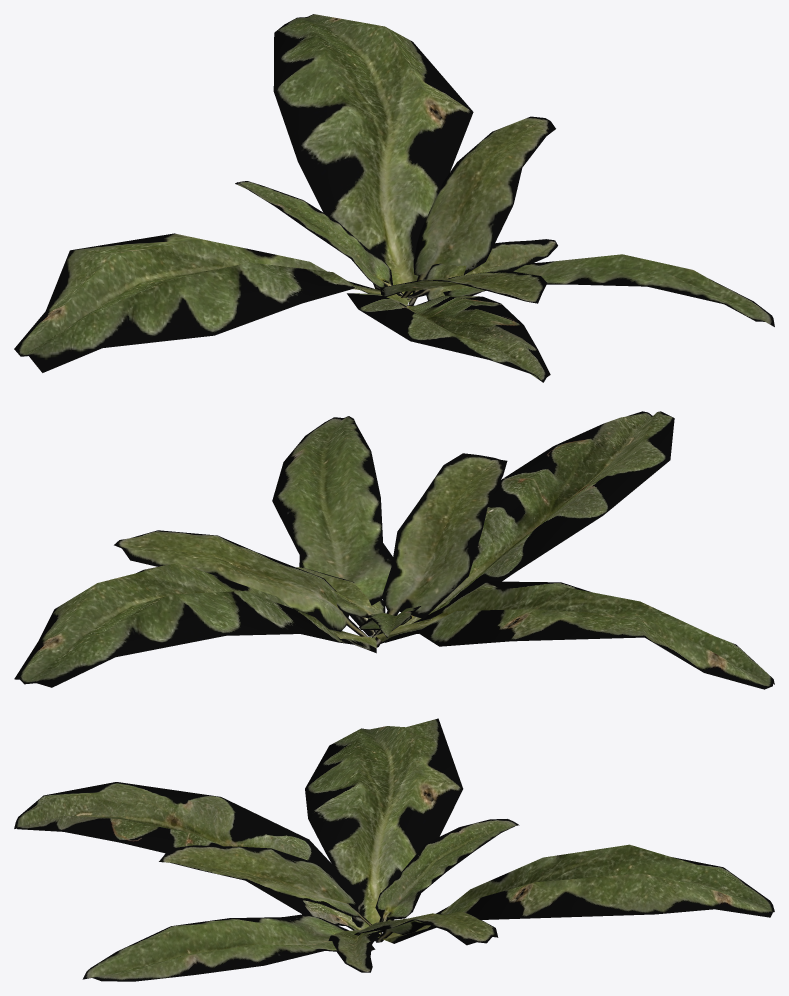
File: flower_gazania_1.gltf
The picture shows the model from 3 angles, top to bottom: view 1: azimuth 30°, elevation 25°; view 2: azimuth 150°, elevation 25°; view 3: azimuth 270°, elevation 25°; orthographic projection. The views are drawn at different scales.
Visible parts, largest first — view 1: flower_gazania_b_LOD0; view 2: flower_gazania_b_LOD0; view 3: flower_gazania_b_LOD0.
Part boxes in pixels (box(x1,y1,x2,y2)): flower_gazania_b_LOD0: box(14, 14, 774, 382); flower_gazania_b_LOD0: box(14, 411, 774, 689); flower_gazania_b_LOD0: box(14, 718, 774, 981).
Bounding box in the file's own units: 0.2149 × 0.048 × 0.2684.
1 material, 1 textured.
